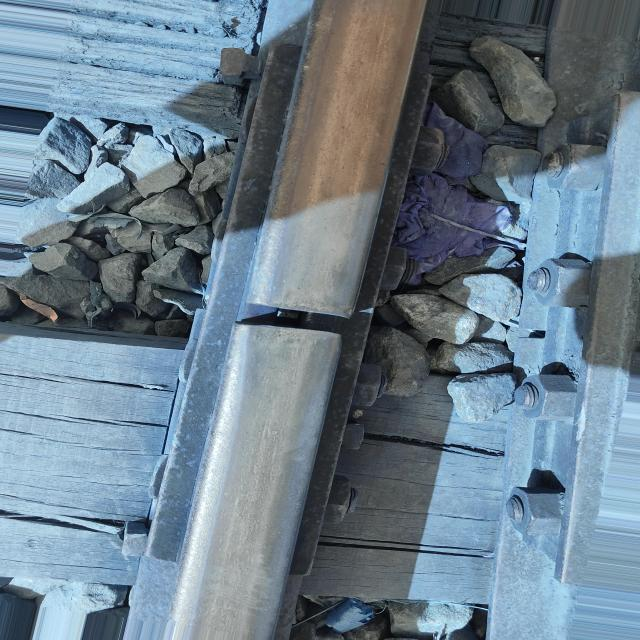Good Joint: (127, 50, 429, 606)
